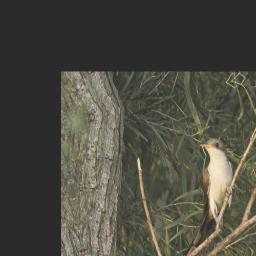Cuckoo: (165, 133, 248, 256)
